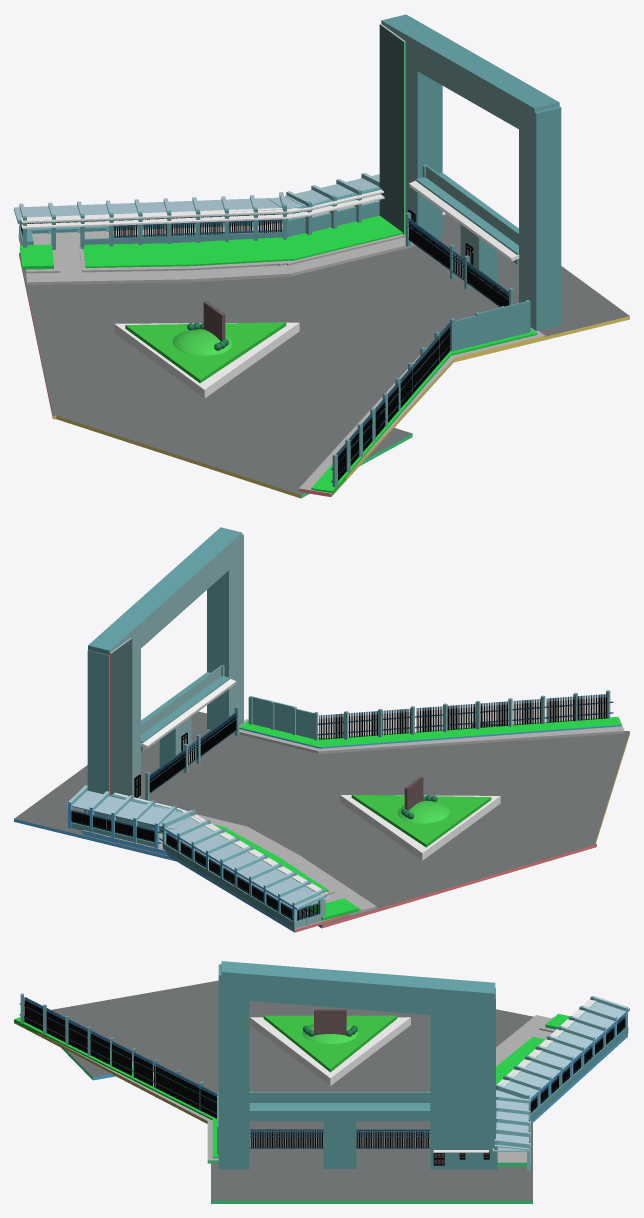
The model's file is AUP Gate.gltf.
3 views of the same model, one above another, from view 1: azimuth 30°, elevation 25°; view 2: azimuth 150°, elevation 25°; view 3: azimuth 270°, elevation 25° (orthographic). The views are drawn at different scales.
Visible parts, largest first — view 1: cube (×31), cylinder (×2), sphere; view 2: cube (×24), cylinder (×2), sphere; view 3: cube (×21), cylinder (×2), sphere.
Part boxes in pixels (x1=…): cube (×31): x1=14, y1=14, x2=629, y2=498; cylinder (×2): x1=114, y1=322, x2=299, y2=398; sphere: x1=173, y1=329, x2=232, y2=355; cube (×24): x1=14, y1=527, x2=629, y2=932; cylinder (×2): x1=340, y1=794, x2=500, y2=860; sphere: x1=398, y1=800, x2=449, y2=823; cube (×21): x1=14, y1=961, x2=629, y2=1203; cylinder (×2): x1=249, y1=1015, x2=410, y2=1085; sphere: x1=302, y1=1024, x2=358, y2=1044.
Size of the model in its own units: 20.01 by 8.23 by 22.36.
Materials: 19 (19 with a texture image).
